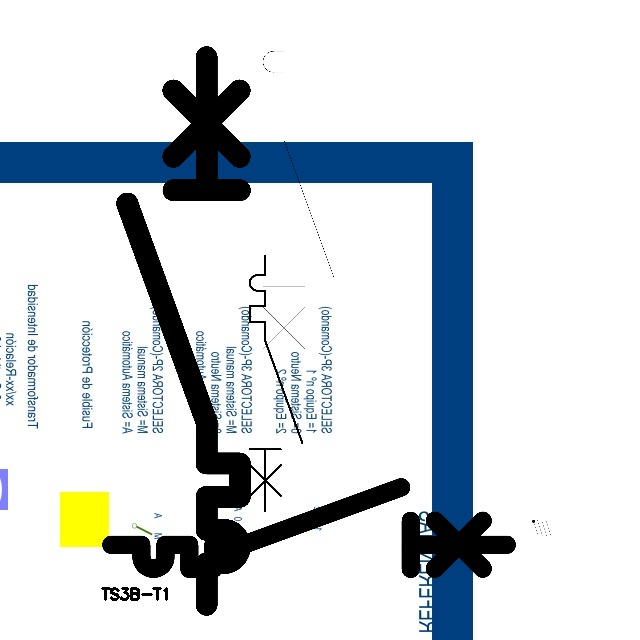interruptor_termomagnetico: (113, 43, 254, 619), (101, 477, 517, 579), (254, 16, 343, 379), (243, 249, 308, 518)
